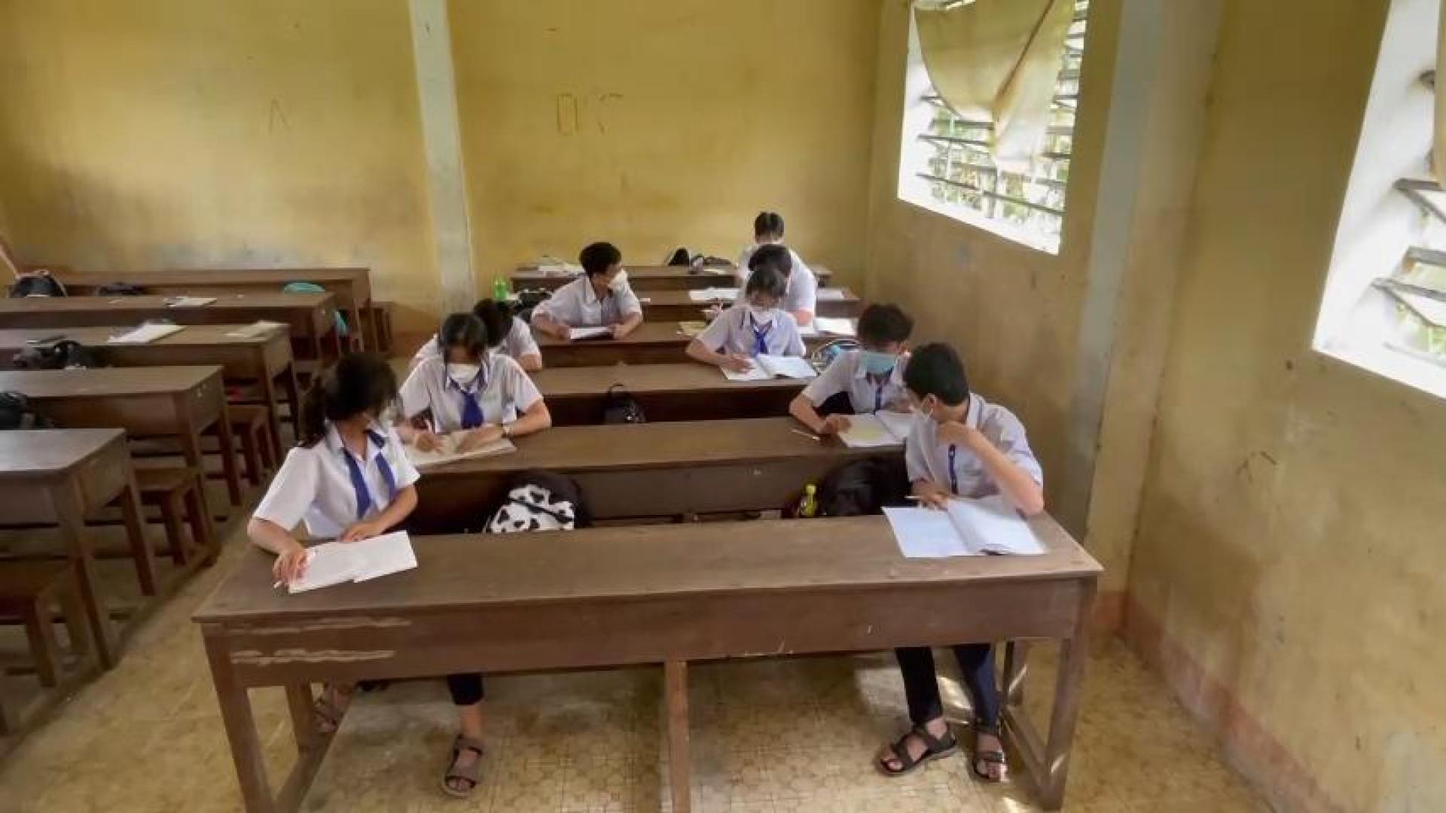Look Around: (280, 346, 406, 449), (559, 223, 652, 308), (885, 330, 978, 415)
Wave: (906, 411, 1053, 518)
